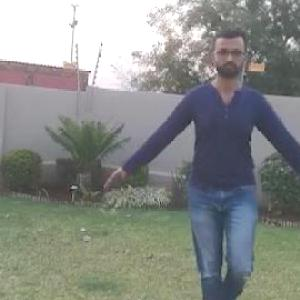land: (138, 49, 299, 299)
